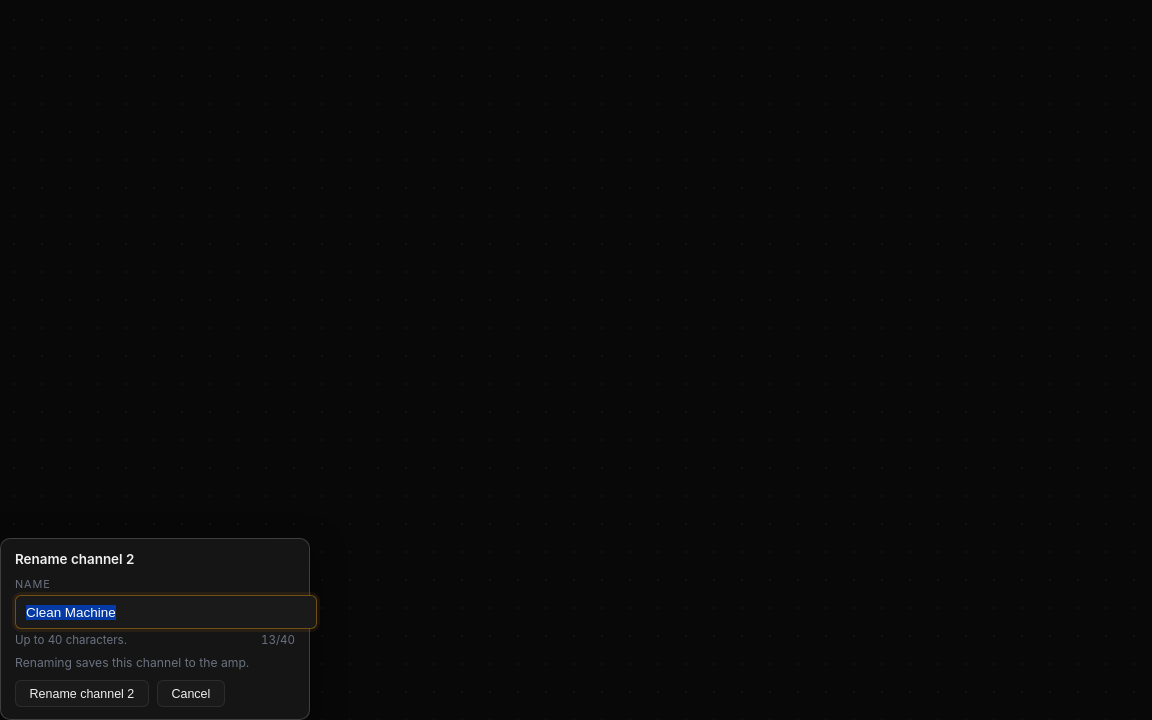
rename popover › channel mode › shows the store-failed result
(page scrolled)
Replace the text in the field labelled "Name" with "New Name" at (166, 612), box x1=15 y1=595 x2=317 y2=629
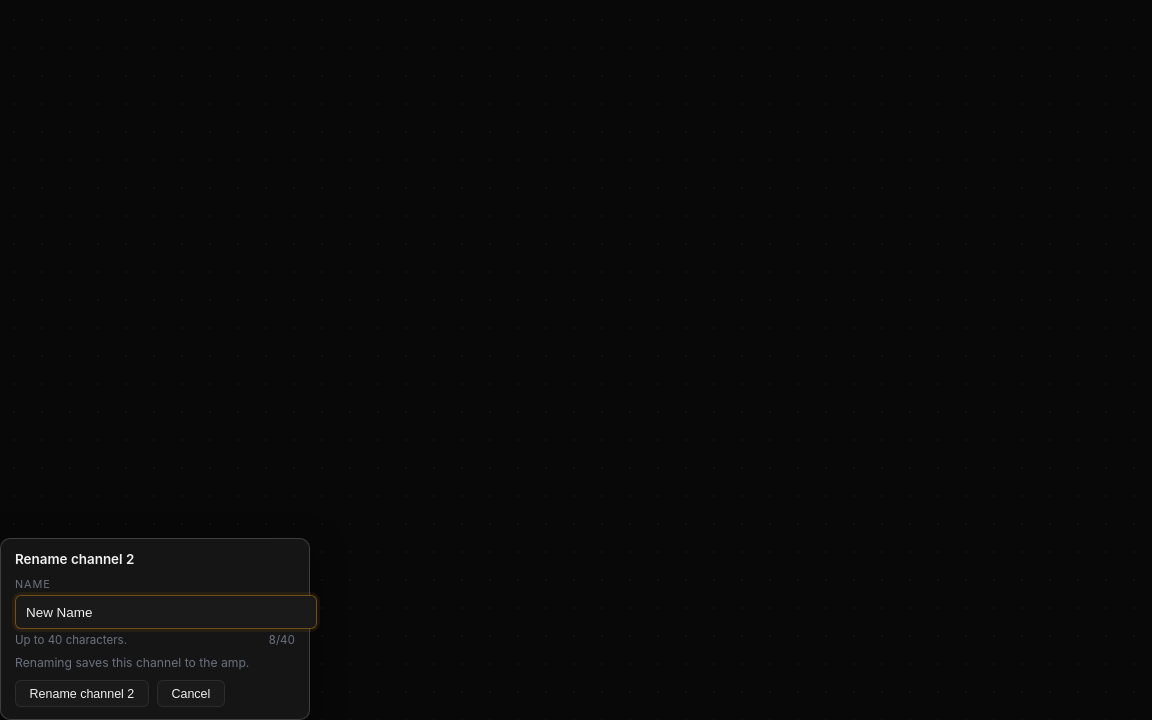
Click the button "Rename channel 2" at (82, 694), box x1=15 y1=680 x2=149 y2=707
(page scrolled)
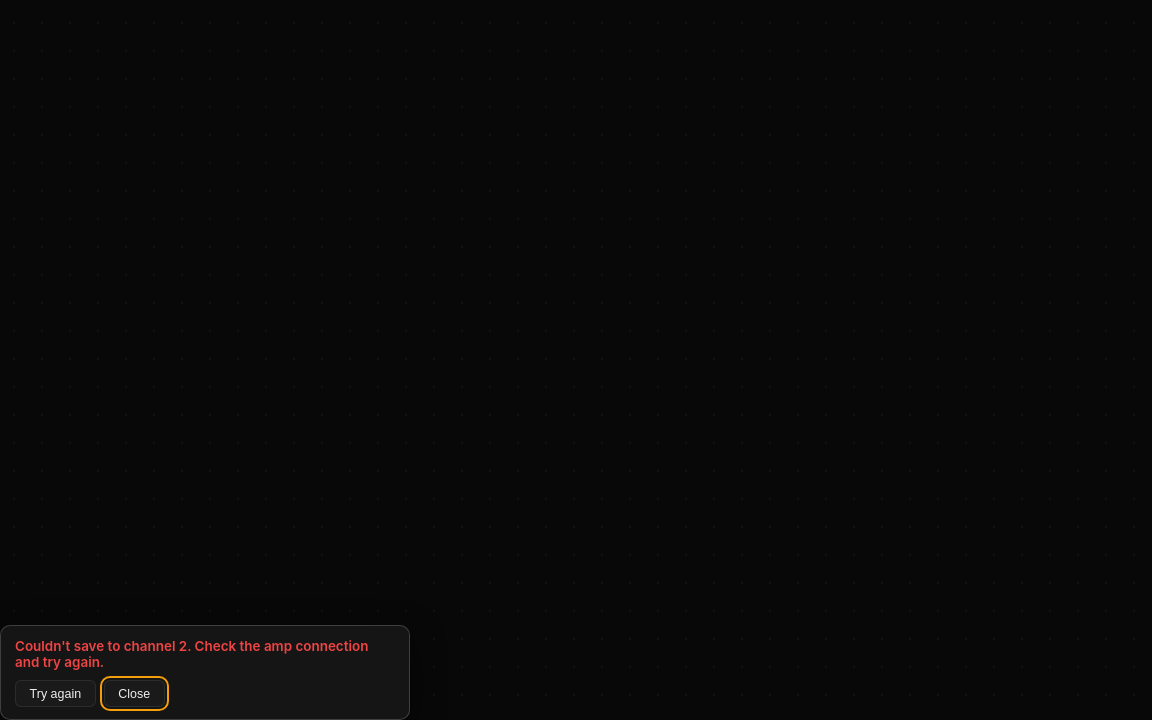
expect the message reads "Couldn't save to channel 2. Check the amp connection and try again.": met, box x1=15 y1=638 x2=395 y2=670
